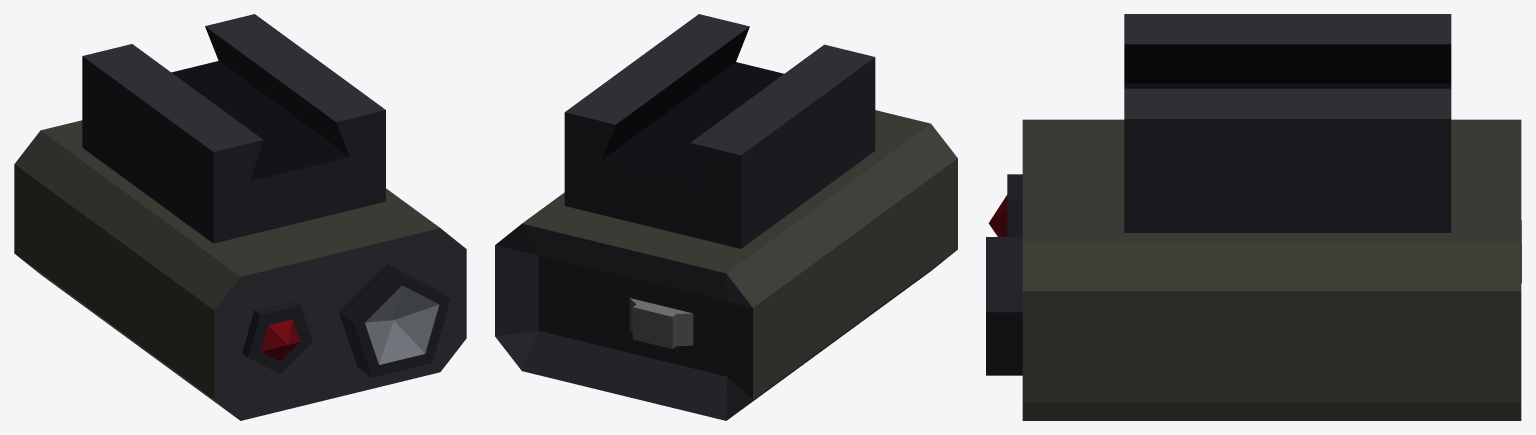
Rendered from MW1_Device_LaserLight_01.fbx.
The picture shows the model from 3 angles, left to right: view 1: azimuth 30°, elevation 25°; view 2: azimuth 150°, elevation 25°; view 3: azimuth 270°, elevation 25°; orthographic projection. The views are drawn at different scales.
Visible parts, largest first — view 1: Device_LaserLight_01; view 2: Device_LaserLight_01; view 3: Device_LaserLight_01.
Boxes of the visible parts, box(x1,y1,x2,y2) form: Device_LaserLight_01: box(14, 14, 466, 420); Device_LaserLight_01: box(495, 14, 957, 420); Device_LaserLight_01: box(986, 14, 1521, 420).
Bounding box in the file's own units: 3.47 × 3.1 × 5.12.
